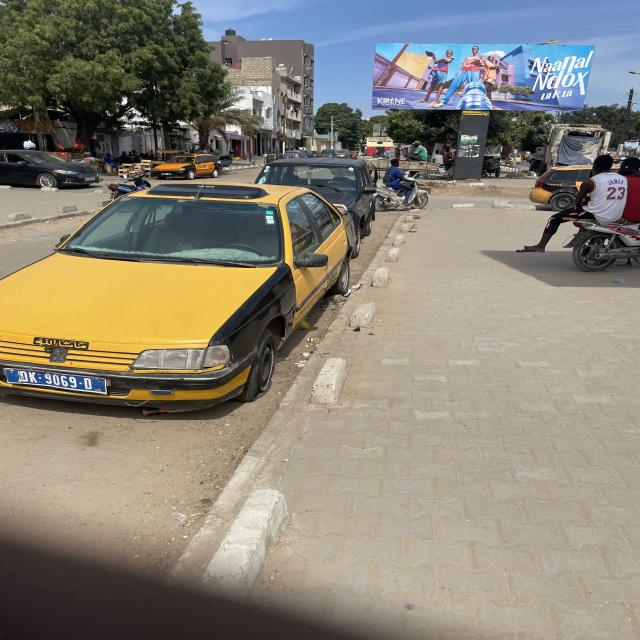moto: (564, 221, 640, 272), (108, 172, 151, 201), (376, 186, 406, 212), (411, 182, 429, 210)
particulier: (258, 159, 378, 259), (1, 151, 101, 189), (323, 150, 353, 160), (286, 151, 309, 159), (334, 151, 353, 160), (303, 151, 316, 159)
taxi: (1, 184, 351, 411), (531, 166, 593, 212), (153, 155, 221, 181)
